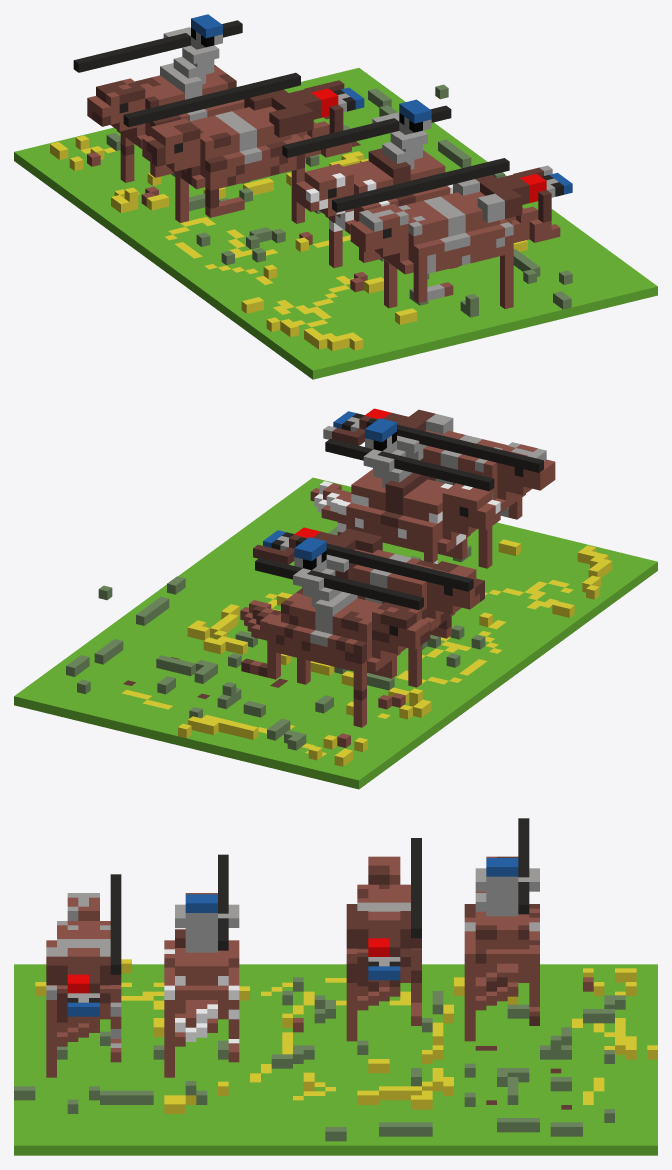
The model's file is tartar_engage_cossacks-6.obj.
The picture shows the model from 3 angles, top to bottom: view 1: azimuth 30°, elevation 25°; view 2: azimuth 150°, elevation 25°; view 3: azimuth 270°, elevation 25°; orthographic projection. The views are drawn at different scales.
Bounding box in the file's own units: 4 × 1.8 × 6.
Materials: 1 (1 with a texture image).
